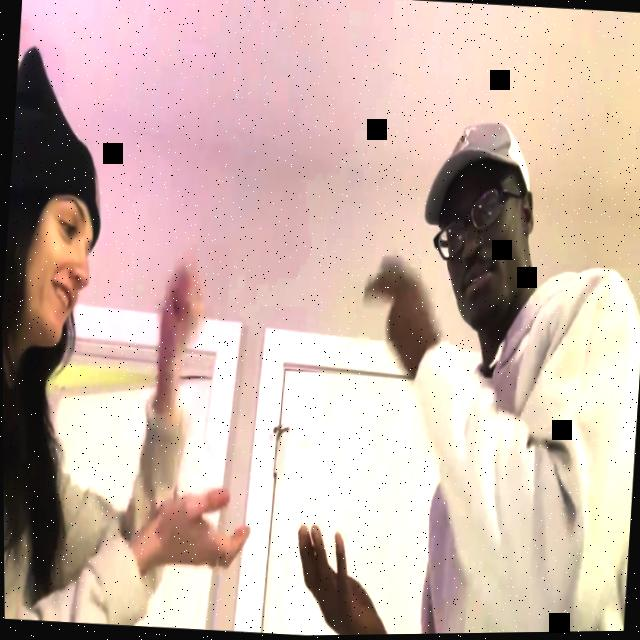Rock: (155, 260, 208, 354)
Scissors: (358, 258, 430, 377)
